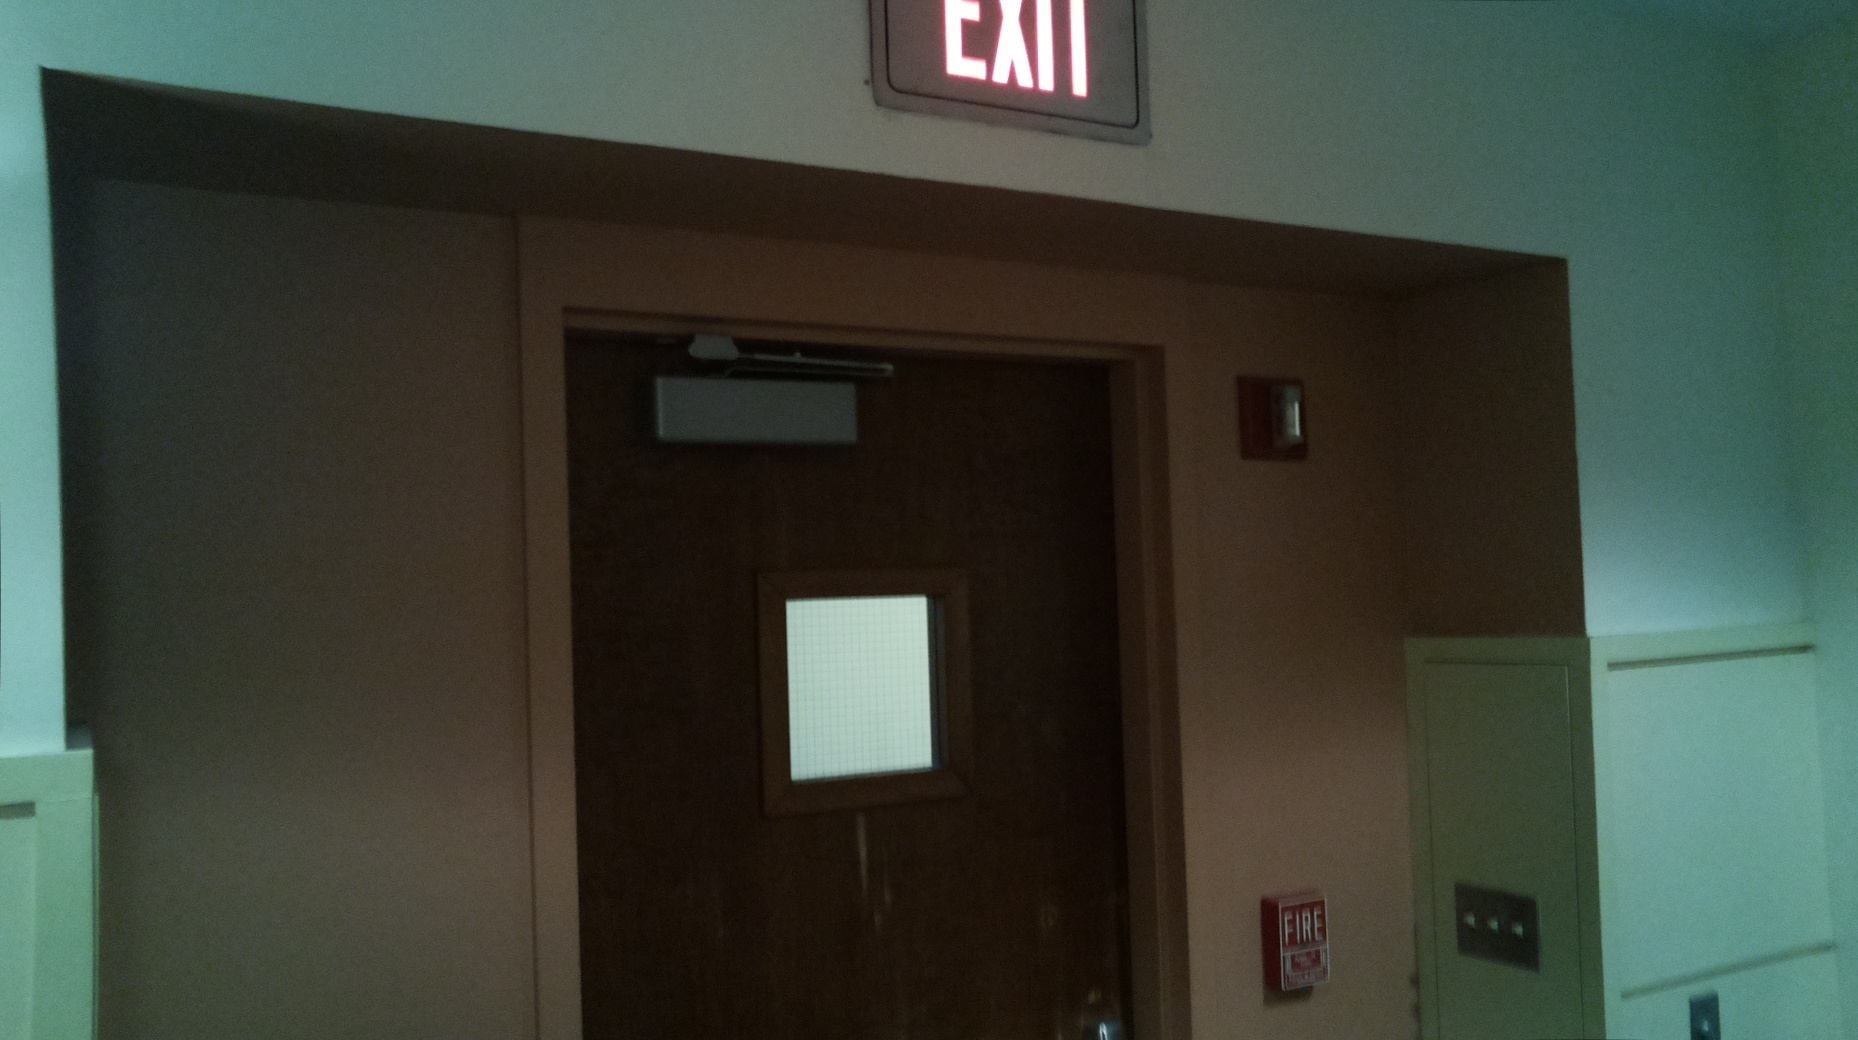exit sign: (861, 1, 1161, 151)
